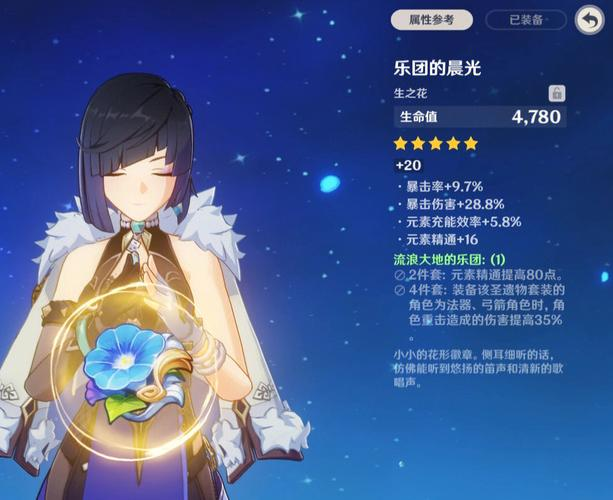夜兰: (1, 70, 261, 500)
